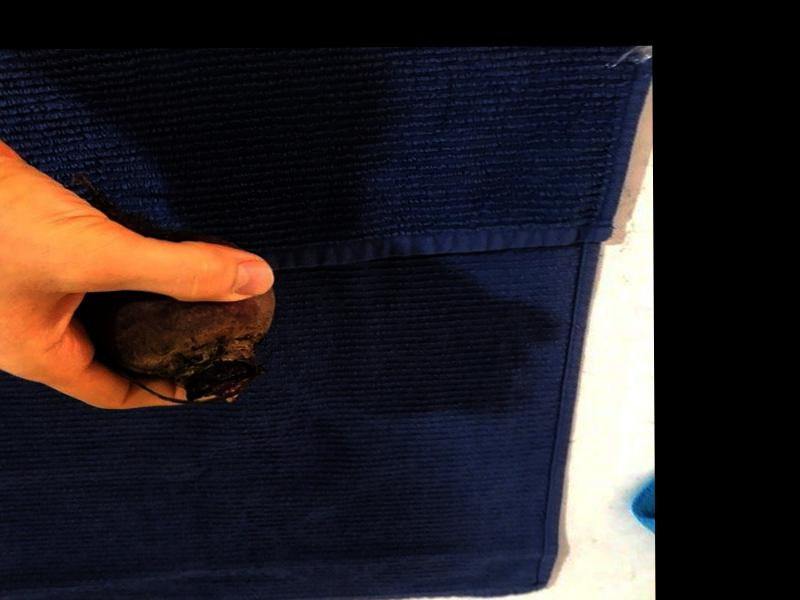Beet: (80, 170, 277, 402)
